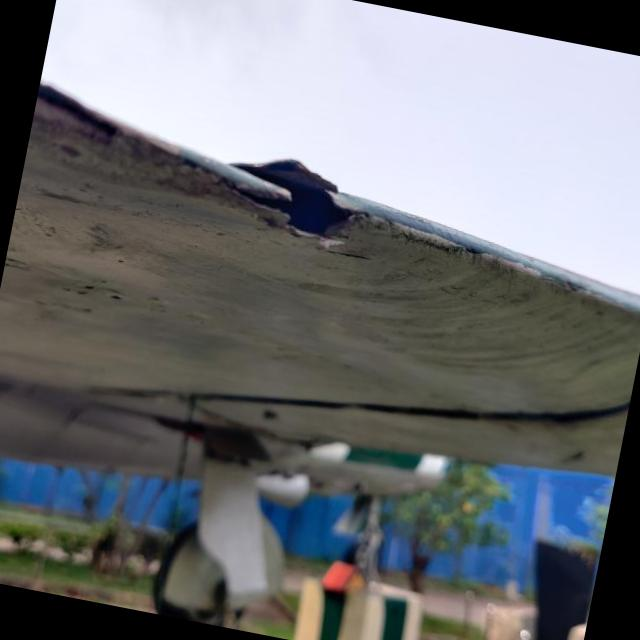Crack: (234, 159, 353, 234)
